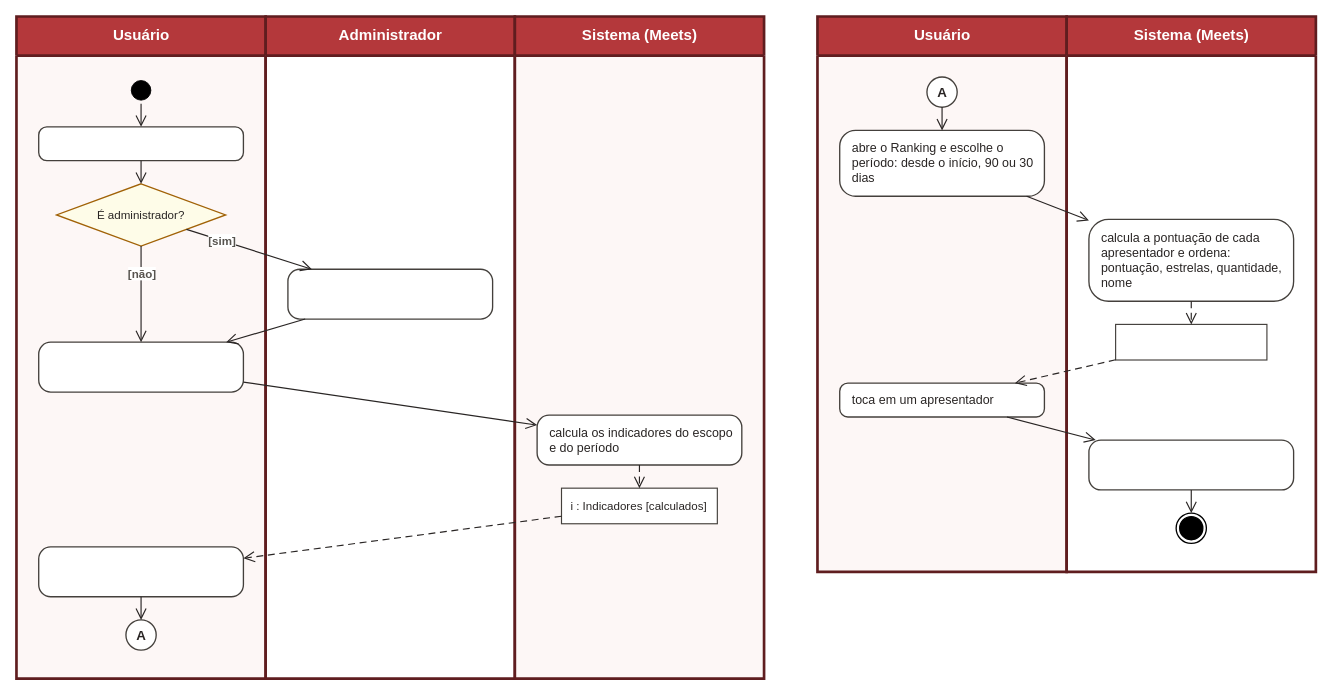
This 1332x695 diagram has some shape labels left out. The shapes that lost their labels are listed below. From the top down, each one's centre as x and y in pixels, then its label:
At point (141, 143): "abre o Dashboard pelo menu".
At point (390, 293): "escolhe: meu conteúdo ou plataforma".
At point (1191, 341): "r : Ranking [ordenado]".
At point (141, 366): "escolhe o período: tudo, 7, 30 ou 90 dias".
At point (1191, 464): "mostra o perfil com a média de cada atributo".
At point (141, 571): "lê os painéis de posts, eventos, avaliações e apresentadores".
